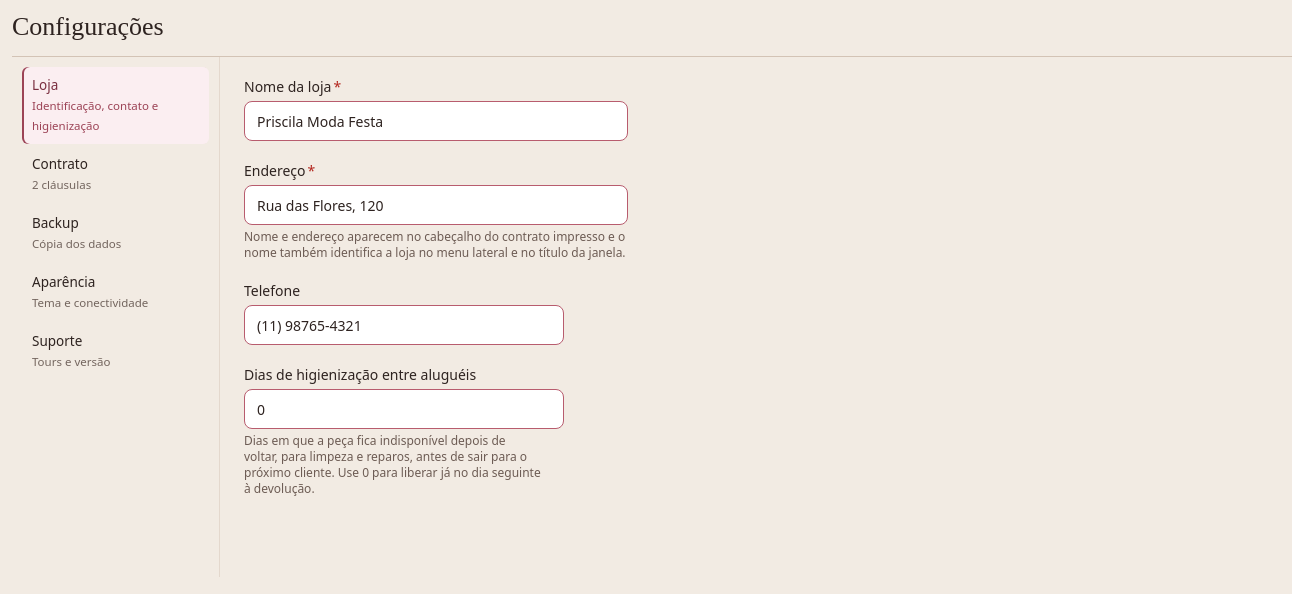
SettingsPage sections › splits the single column into five navigable sections, showing one at a time
expect the button "Loja Identificação, contato e higienização" is shown: met, box [22,67,209,144]
expect the field labelled "Telefone" is shown: met, box [244,305,564,345]
Click the button "Contrato 2 cláusulas" at (116,174), box [22,146,209,203]
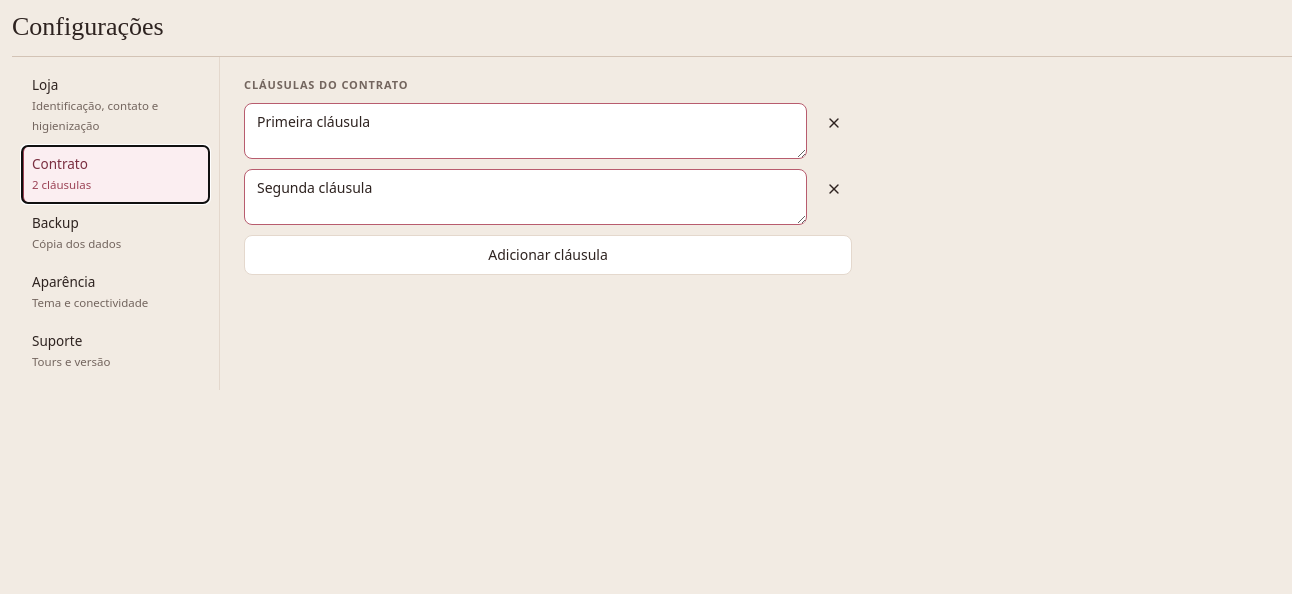
expect the button "Adicionar cláusula" is shown: met, box [244,235,852,275]
expect the label labelled "Telefone" is gone: met
